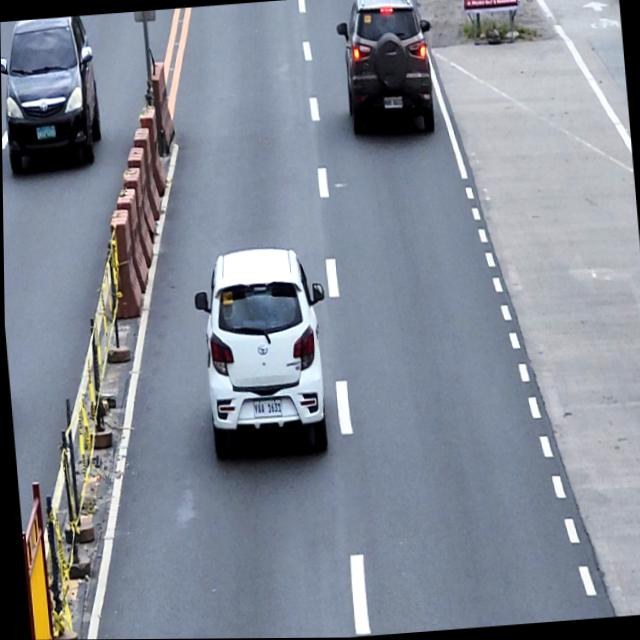Car: (188, 242, 336, 461), (0, 14, 103, 174), (332, 0, 439, 139)
License-Plate: (250, 396, 282, 421), (382, 95, 403, 111), (34, 124, 56, 139)
